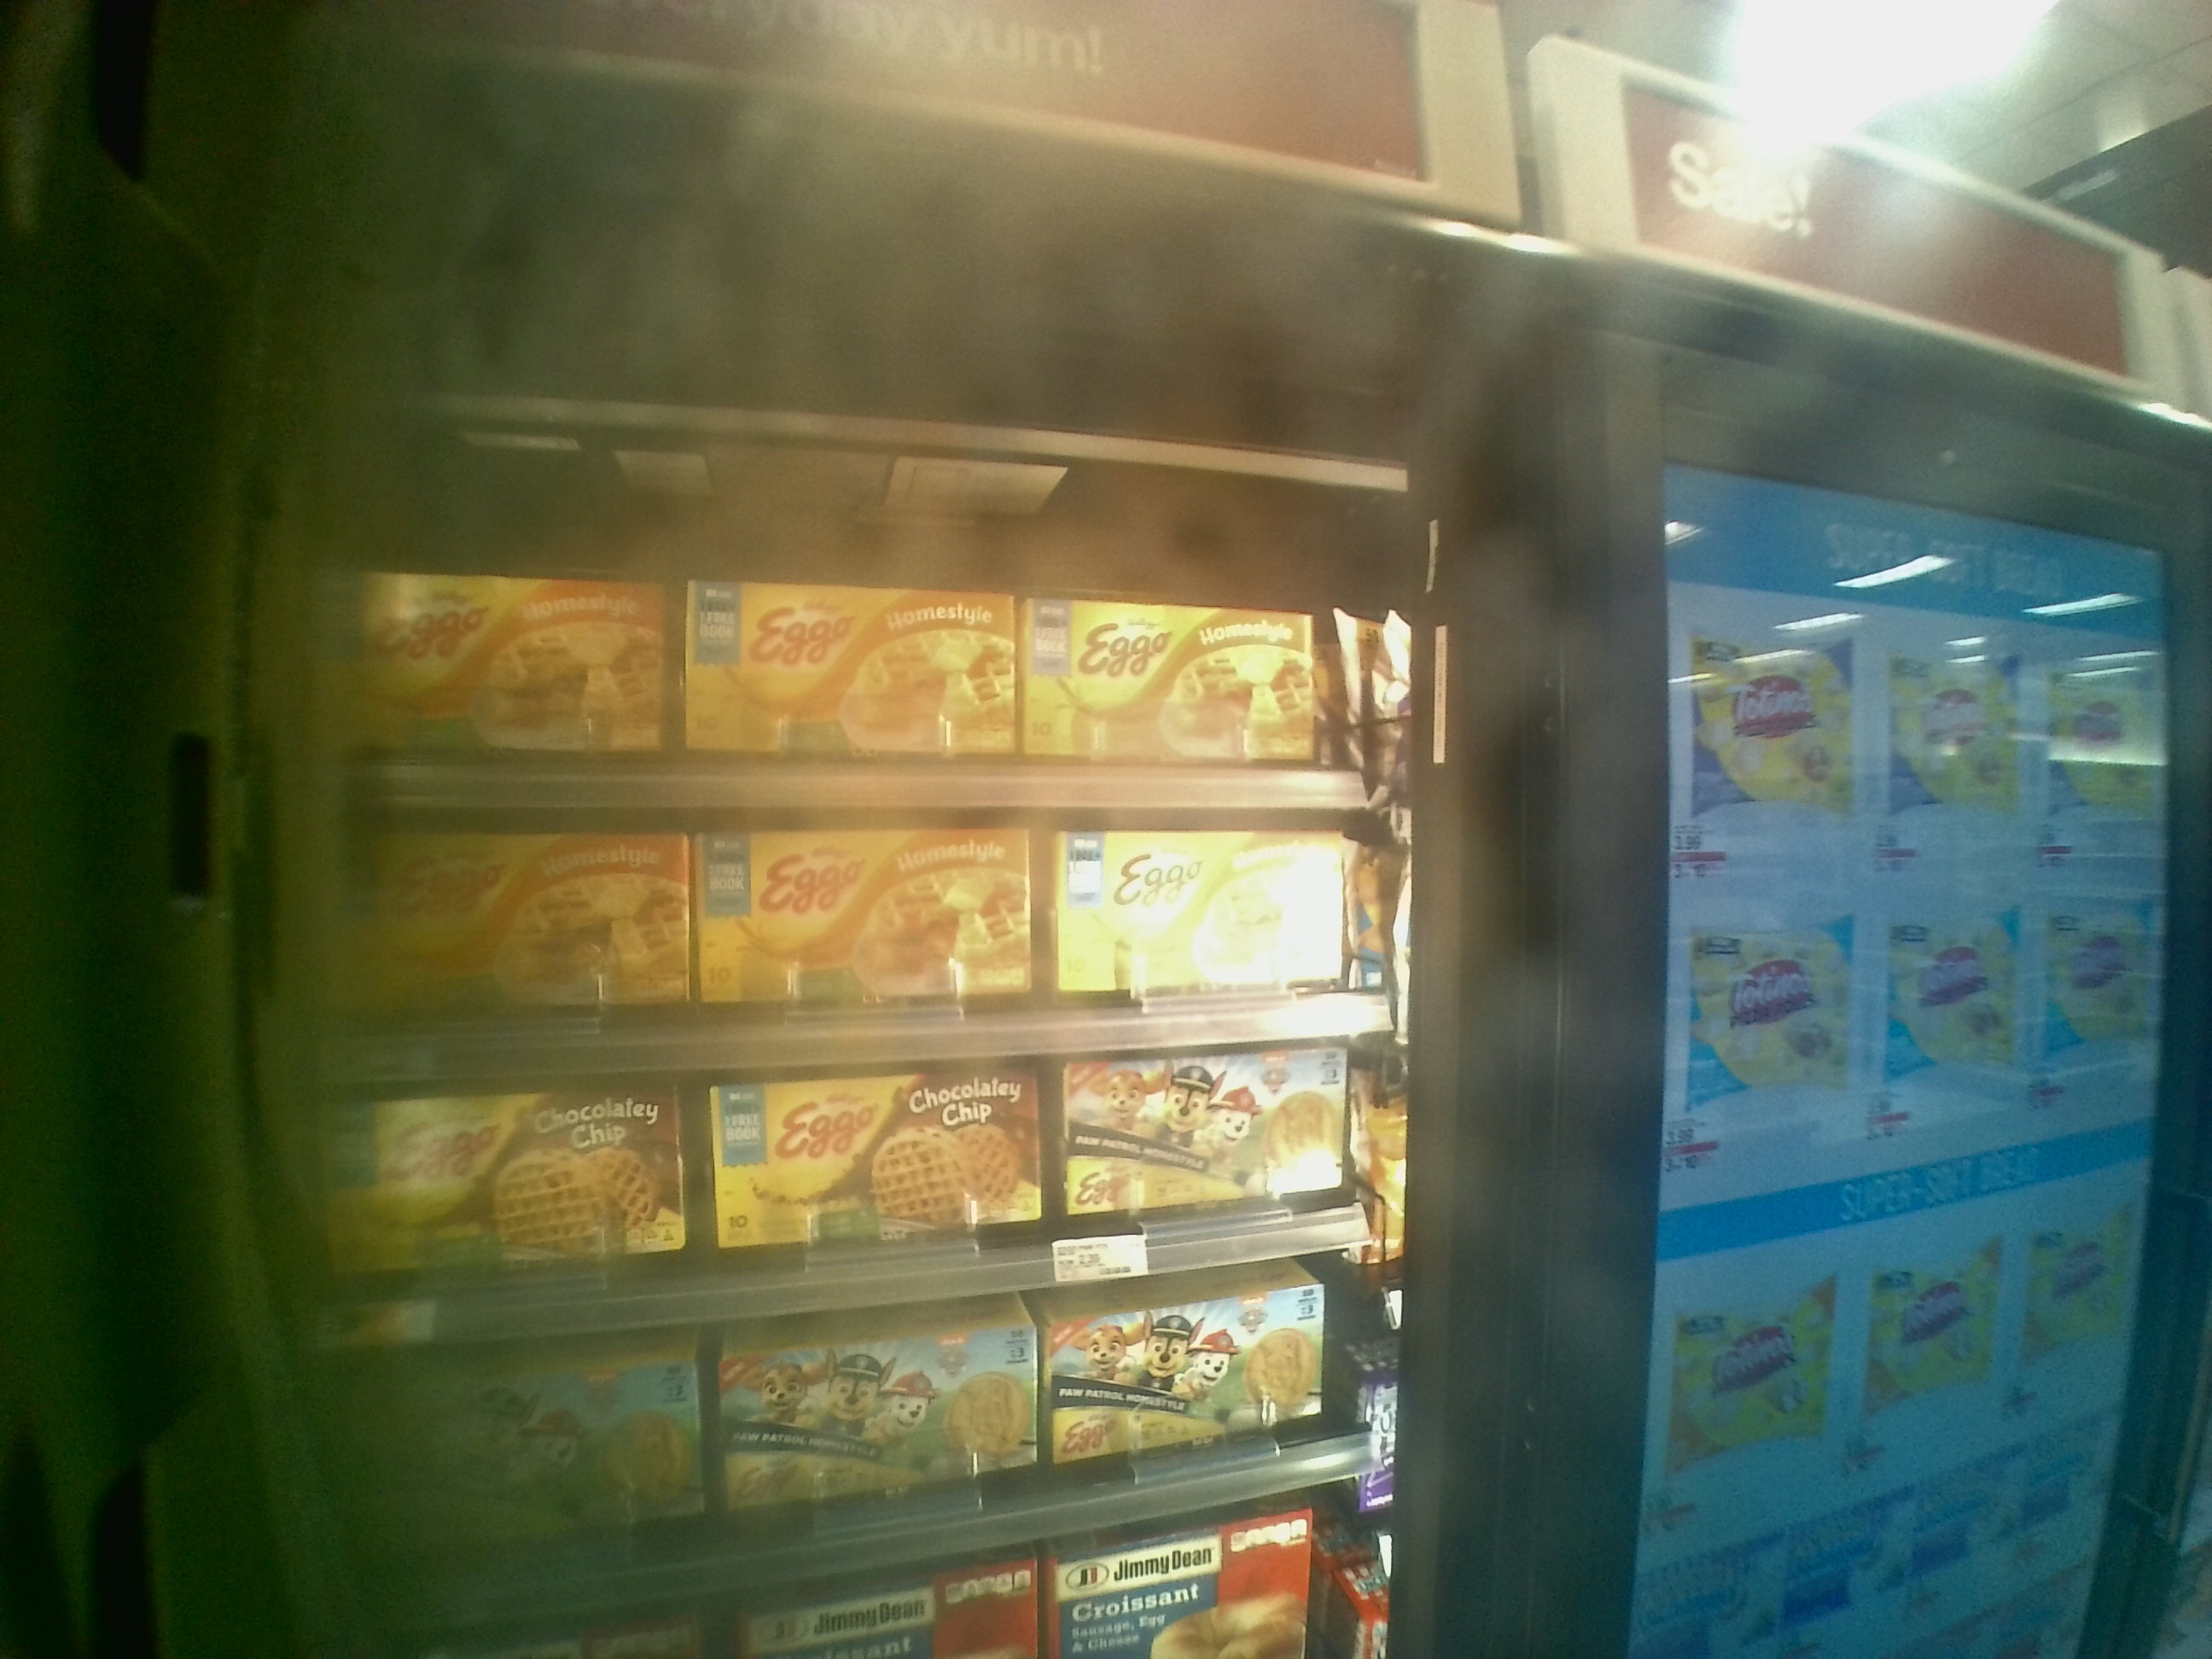shelf: (275, 1079, 1416, 1377), (294, 521, 1379, 807), (289, 802, 1413, 1068)
